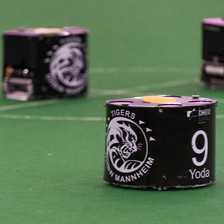robot: (101, 91, 220, 194), (1, 24, 91, 102), (200, 15, 224, 90)
